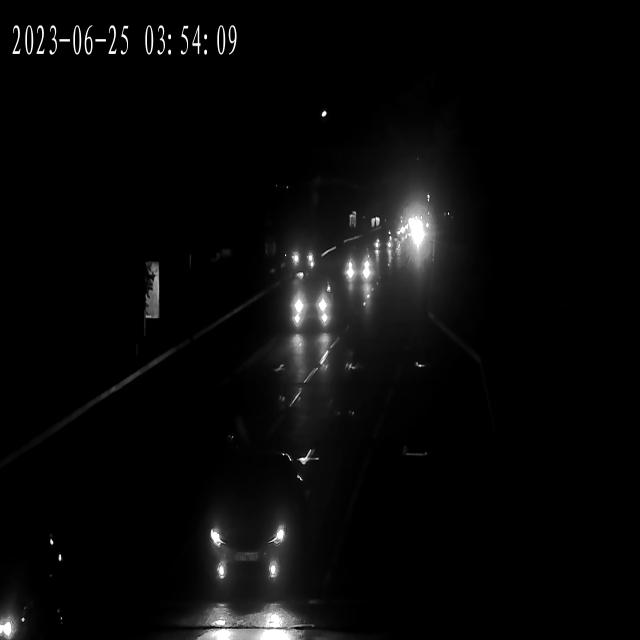Car: (195, 454, 319, 594), (0, 508, 72, 639), (286, 282, 331, 328), (340, 250, 377, 286), (284, 242, 316, 270), (366, 229, 396, 257), (370, 232, 400, 256), (0, 621, 11, 639)
